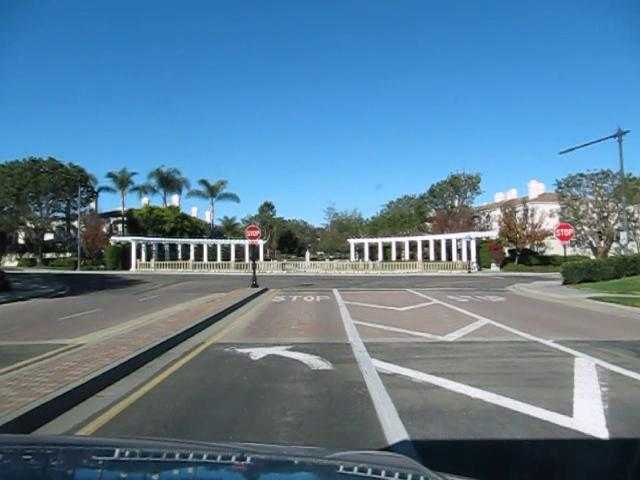stop: (554, 222, 575, 243), (242, 223, 261, 240)
